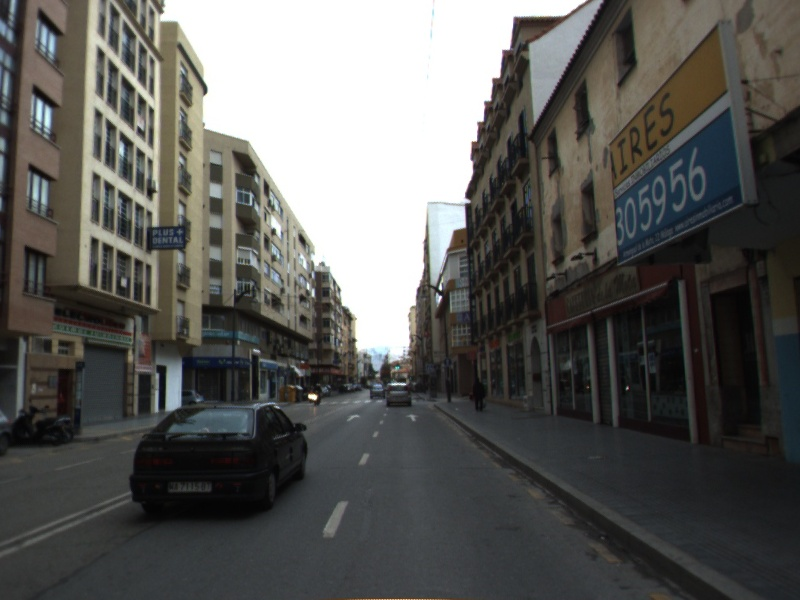STRAIGHT: (404, 412, 421, 423), (345, 413, 362, 422)
